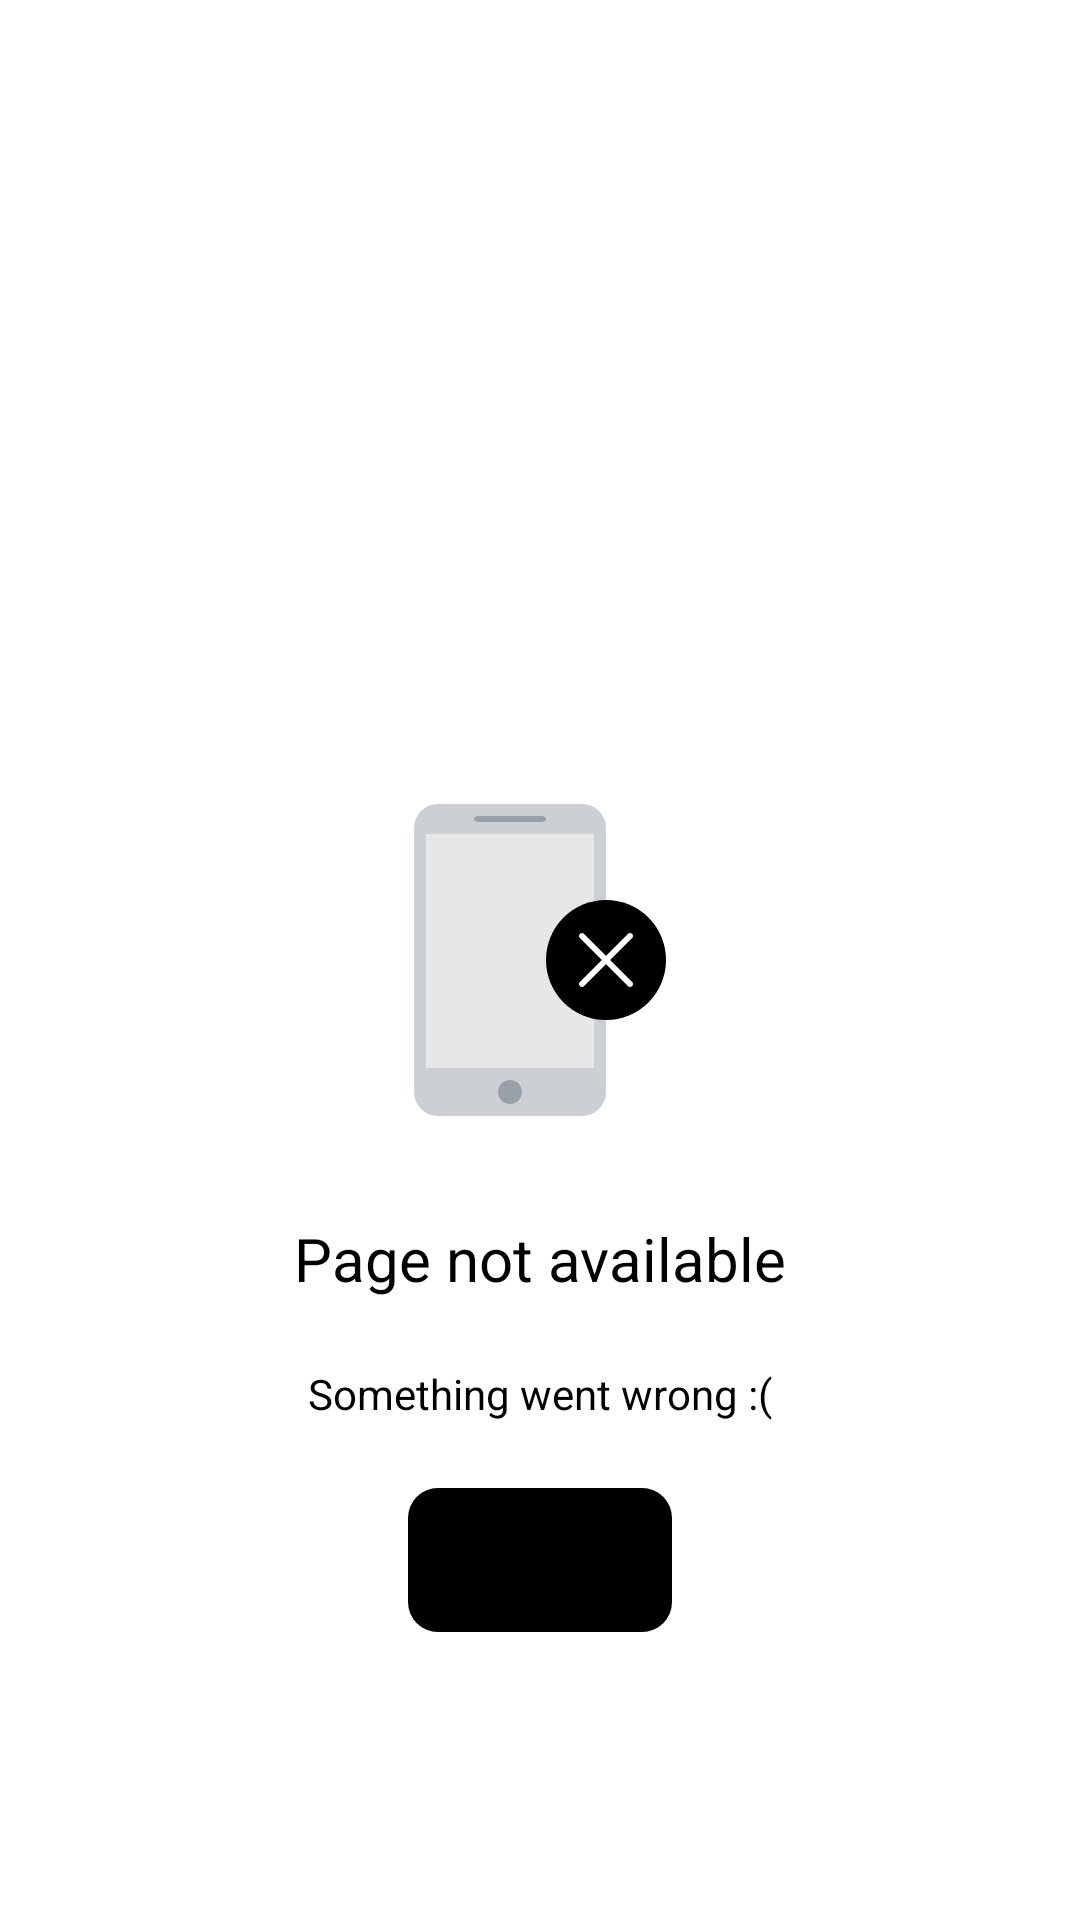

Screen size 1080*1920. Icon name, then its center in pixels as [x,y]:
general error: [540,960]
